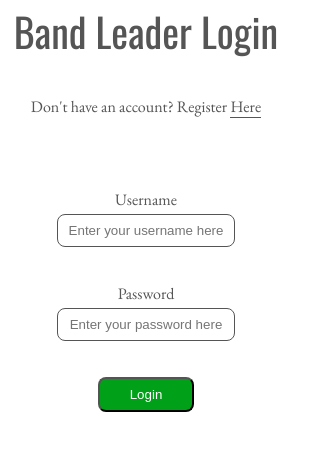
it: <BandleaderLoginPage/> › Unsuccessful login - Error Message Appears
This screenshot has width=320, height=450.
Type "testuser" into the field with test id "UsernameTextInput" at [146, 230], box [57,214,235,247]
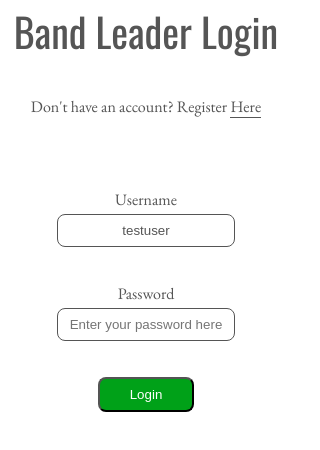
Type "testpassword" into the password field with test id "PasswordTextInput" at [146, 324], box [57,308,235,341]
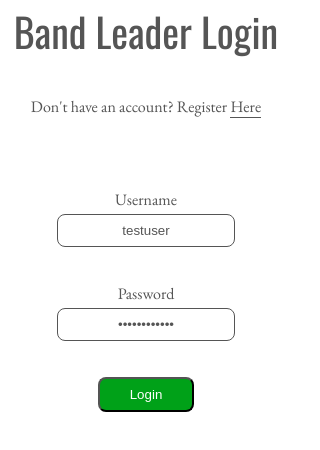
Click the button with test id "LoginButton" at [146, 394], box [98,377,194,412]
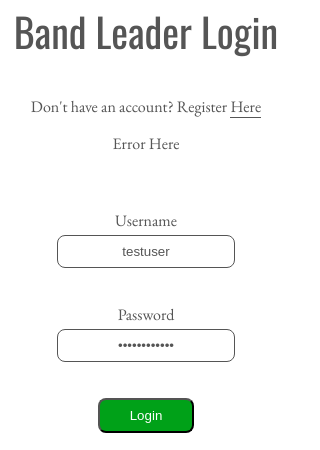
Check: the text "Error Here" is shown, box [112,133,180,154]
